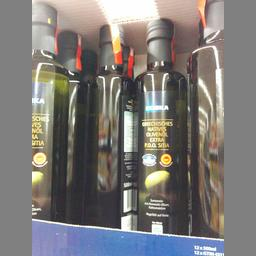oil: (79, 23, 136, 230), (134, 17, 188, 234), (30, 0, 68, 221)
